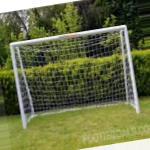goals: (10, 24, 142, 131)
